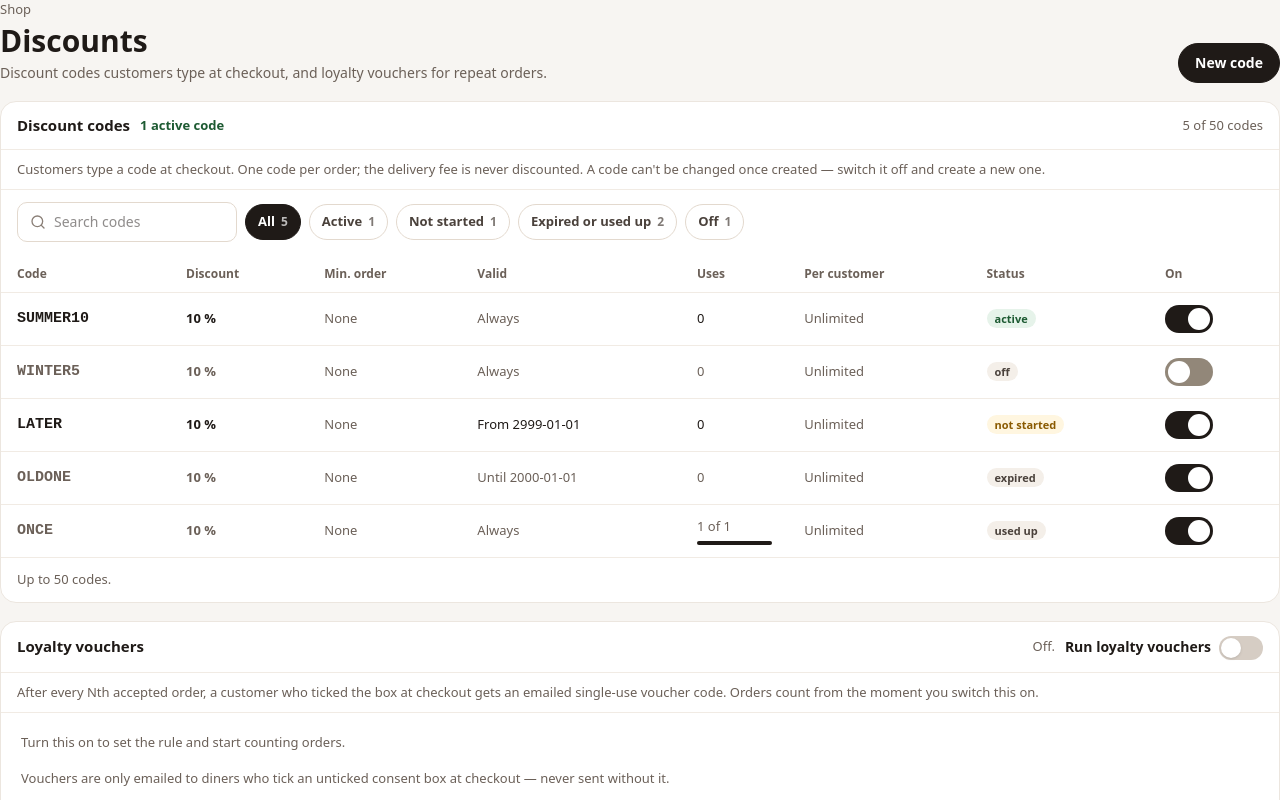
Test: PromotionsPage › searches by code, case-insensitively, combined with the filter
Type "on" into the search field labelled "Search codes" at {"x": 139, "y": 222}, box [54,212,224,232]
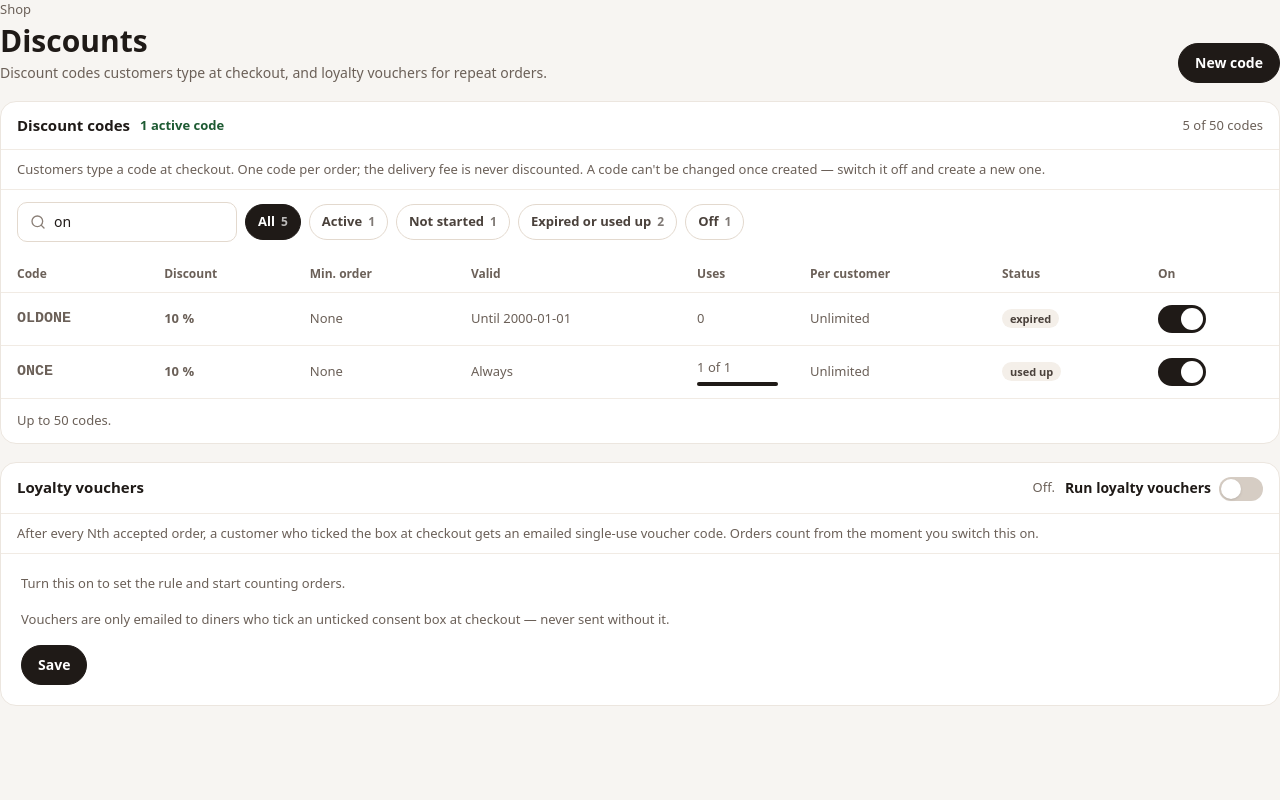
Click the button "Off 1" at {"x": 715, "y": 222}, box [685,204,744,240]
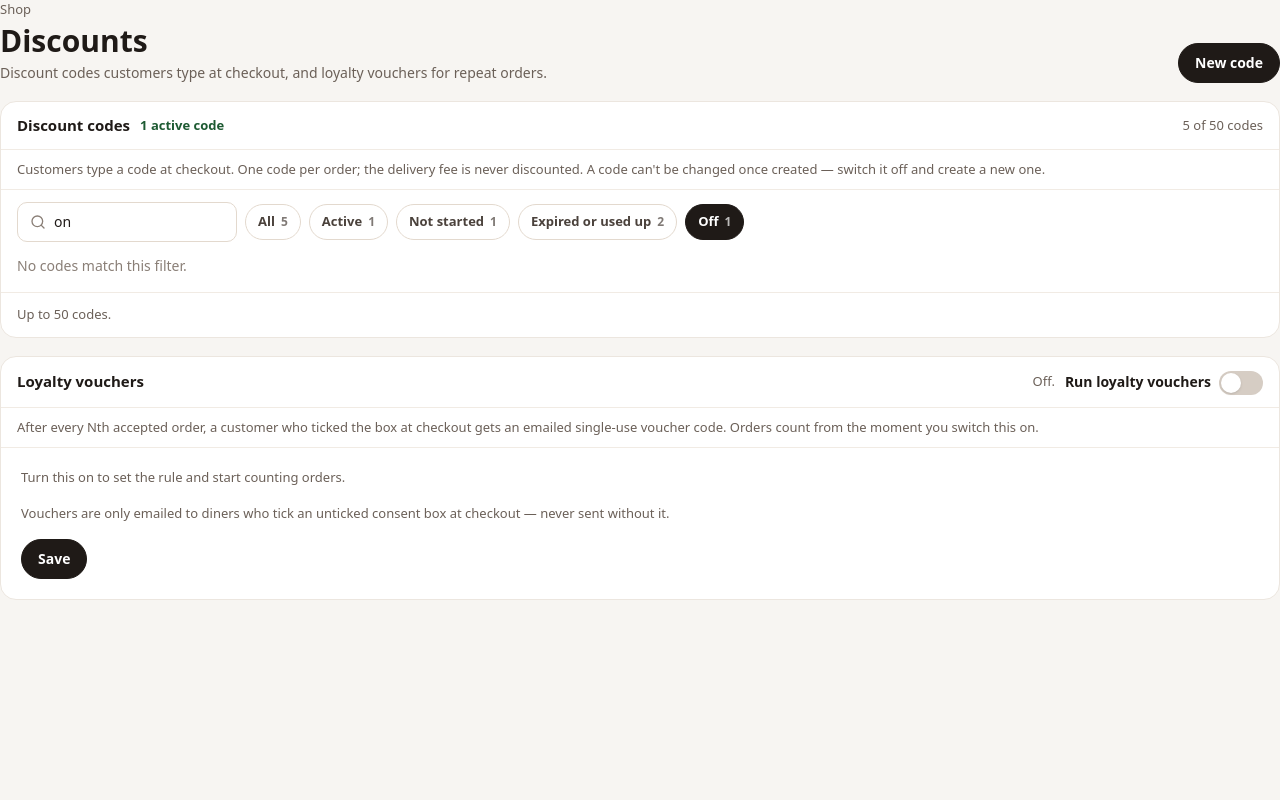
Now the text "No codes match this filter." is shown, box [17,256,187,275]
Now the table is gone
